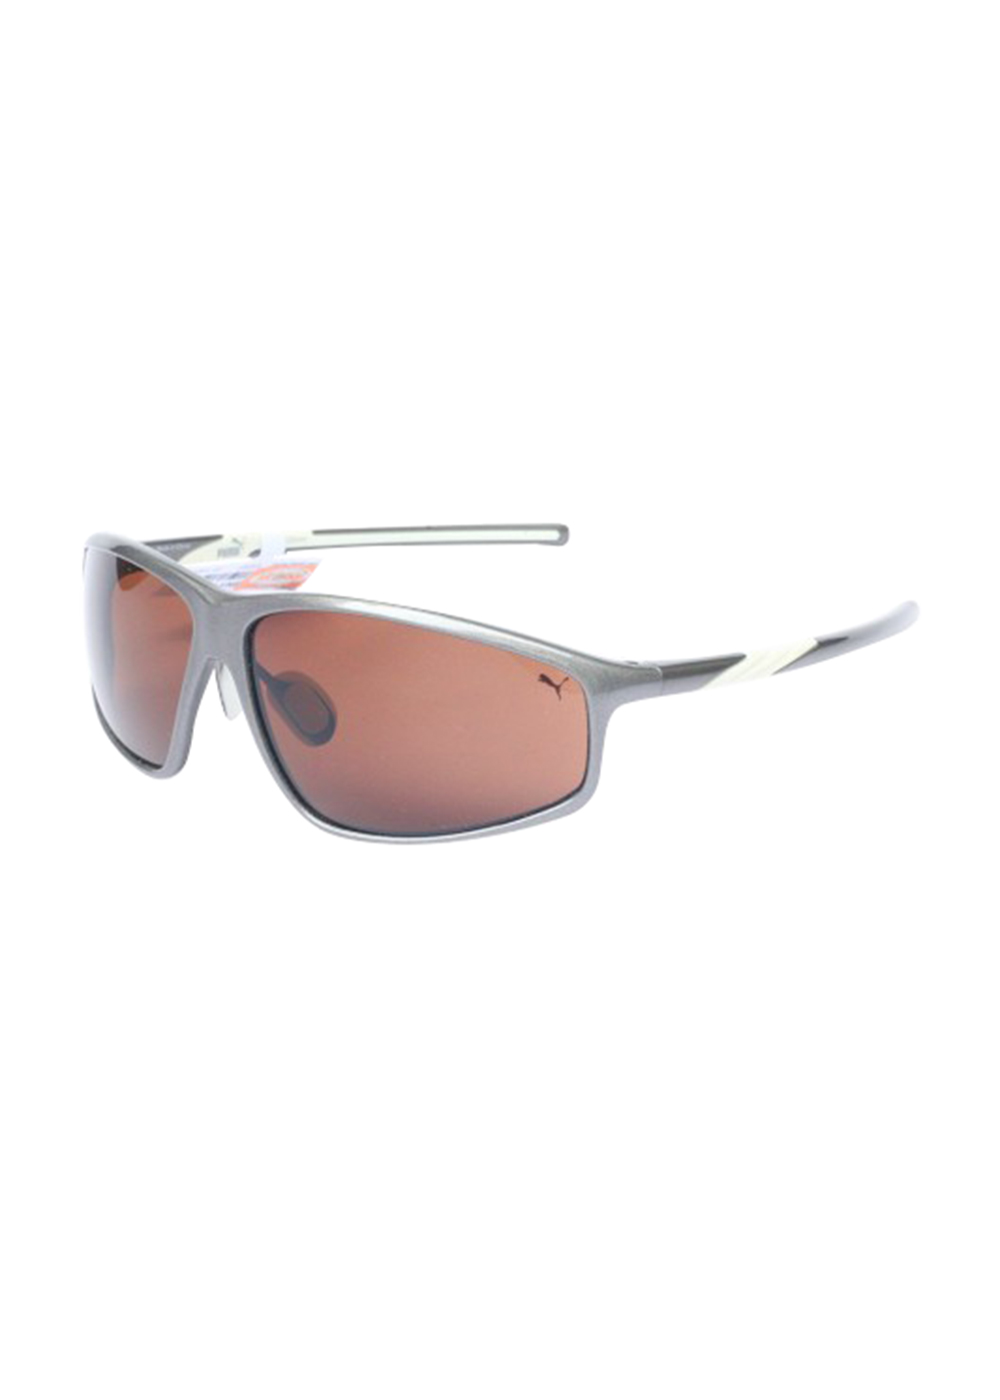Puma: (528, 656, 577, 706), (203, 525, 254, 565)
